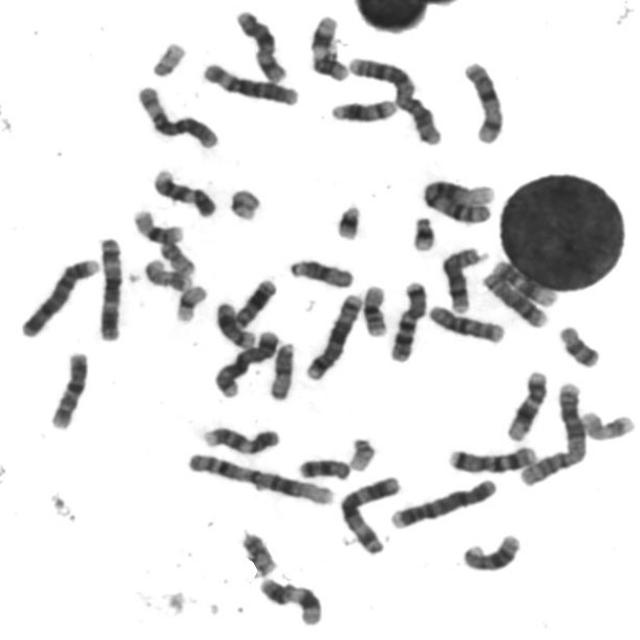A1: (182, 447, 336, 508), (418, 173, 498, 224)
A2: (344, 52, 444, 147), (515, 377, 589, 488)
A3: (335, 470, 404, 555), (92, 231, 126, 342)
B4: (16, 253, 102, 339), (386, 474, 501, 530)
B5: (301, 288, 365, 382), (210, 325, 281, 399)
C10: (44, 346, 91, 431), (424, 300, 508, 345)
C11: (255, 574, 325, 628), (306, 10, 352, 82)
C12: (490, 254, 560, 308), (502, 366, 551, 443)
C6: (132, 80, 222, 150), (198, 57, 302, 108)
C7: (385, 276, 430, 362), (444, 440, 540, 475)
C8: (478, 268, 551, 329), (438, 241, 488, 315)
C9: (149, 164, 219, 218), (198, 420, 282, 456)
D13: (456, 533, 529, 577), (230, 274, 279, 329)
D14: (212, 296, 258, 349), (326, 93, 401, 125)
D15: (284, 253, 356, 289), (264, 337, 298, 402)
E16: (128, 204, 187, 245), (359, 280, 391, 338)
E17: (577, 406, 637, 442), (140, 253, 194, 292)
E18: (555, 320, 603, 370), (295, 453, 352, 481)
F19: (222, 184, 268, 222), (171, 280, 210, 324)
F20: (237, 528, 279, 578), (156, 238, 198, 276)
G21: (331, 198, 365, 241), (407, 211, 439, 253)
G22: (147, 36, 189, 78), (345, 432, 379, 472)
X: (230, 4, 290, 83), (458, 57, 507, 145)
